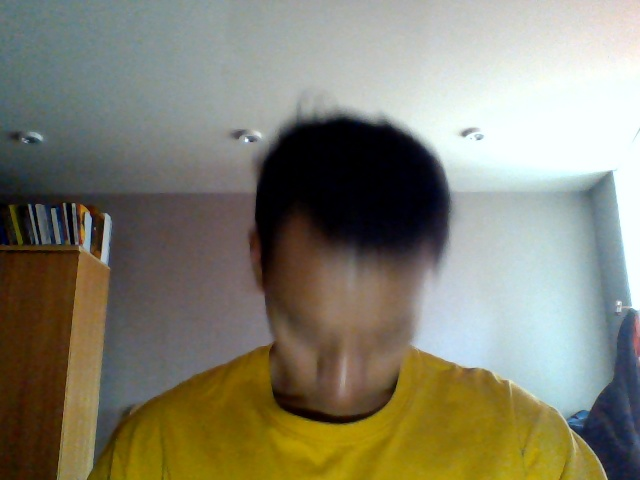no_mask: (273, 357, 403, 417)
